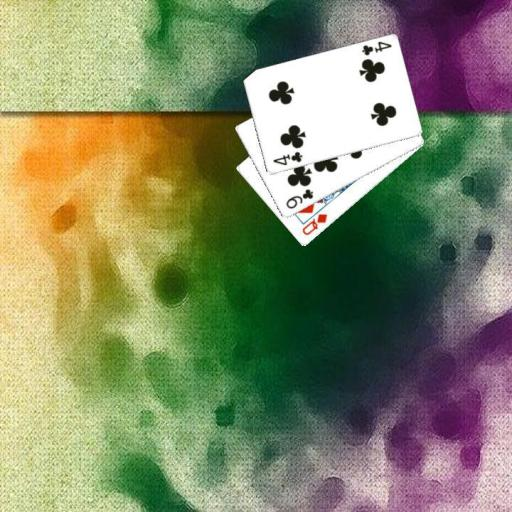4C: (359, 39, 394, 58), (270, 149, 304, 167)
9C: (283, 186, 315, 211)
QD: (299, 210, 329, 237)
